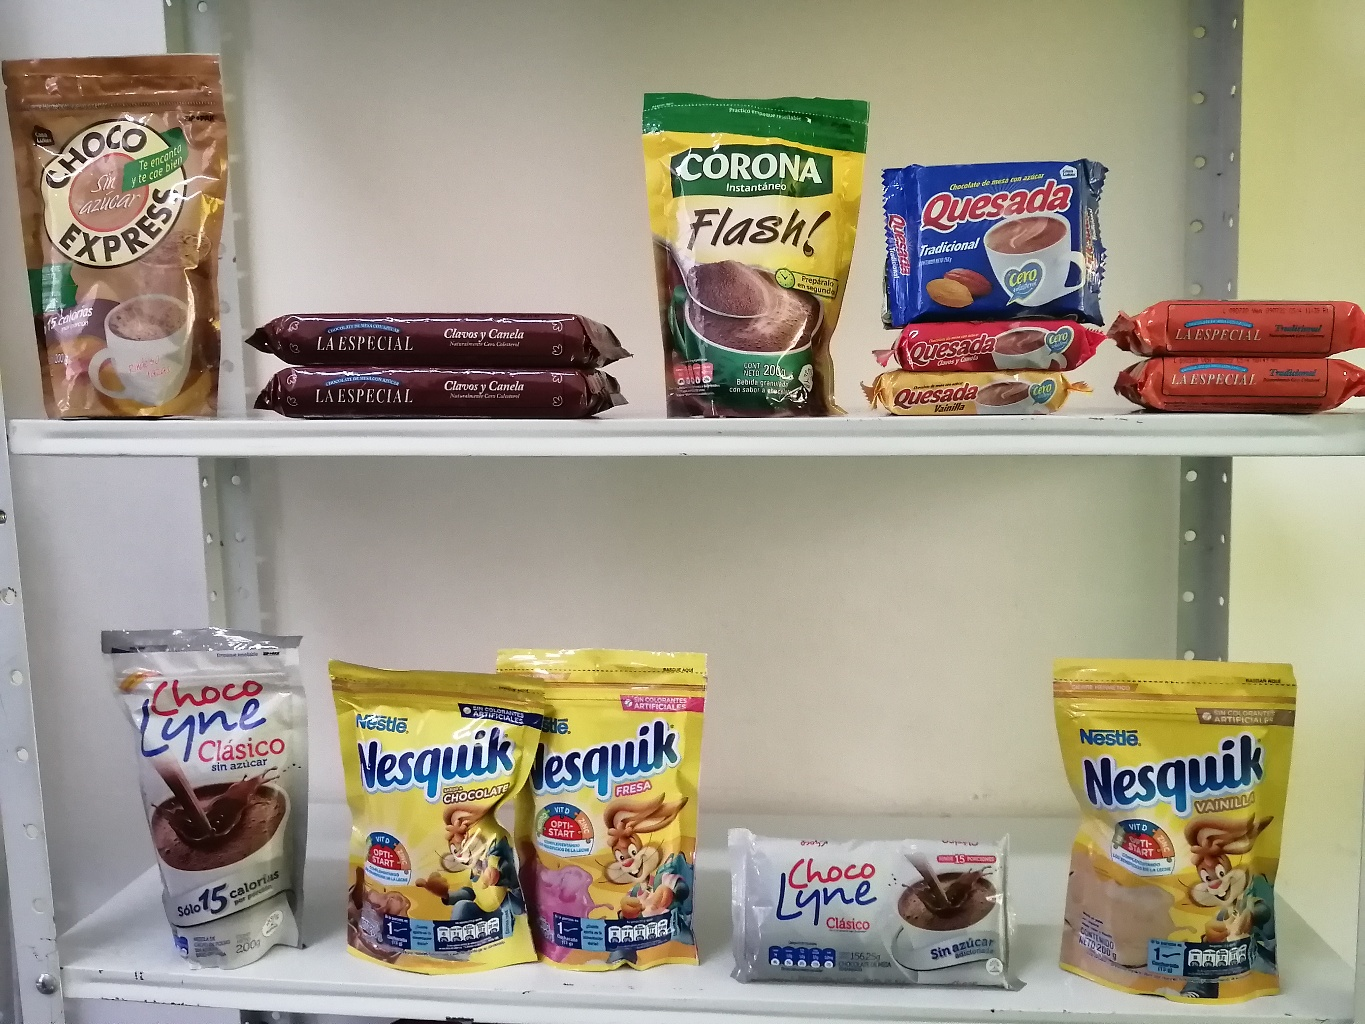COL0170305DYP20000: (493, 640, 717, 975)
COL0170306DYP20000: (1029, 648, 1304, 1011)
